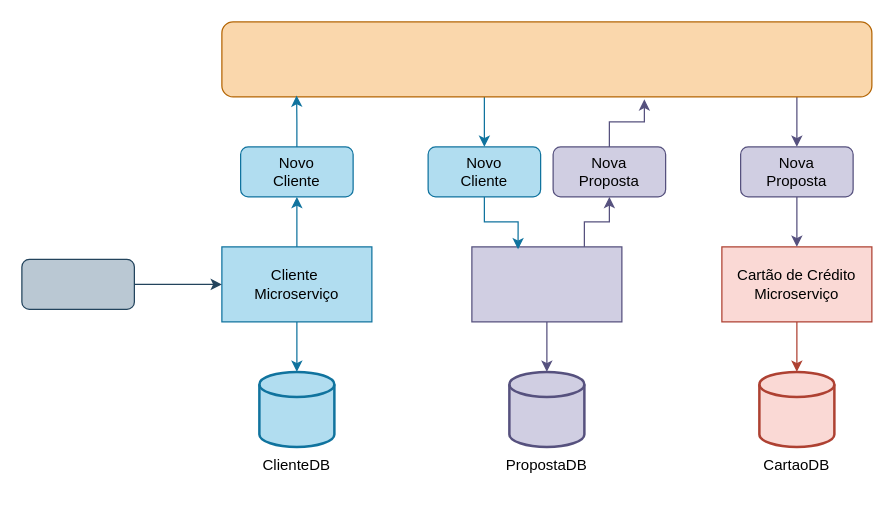
Image size: 894x506. Some labels were removed from this diagram. The centre of each missing label's shape, as x and y in pixels:
"Messaging (RabbitMQ)" goes at pixel 546 59.
"POST Cliente" goes at pixel 77 283.
"Proposta Microserviço" goes at pixel 546 284.
